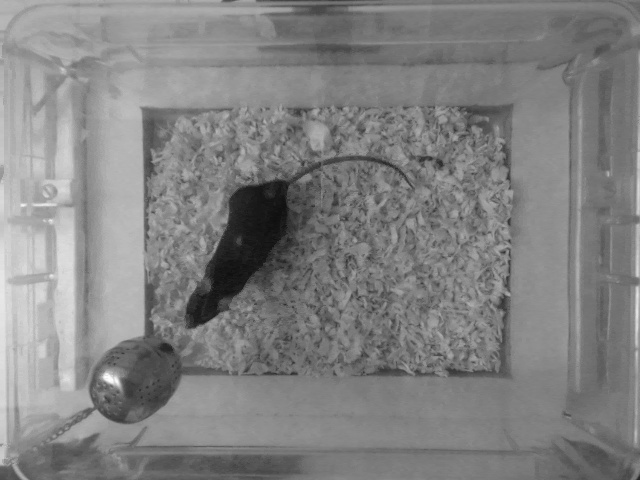mice: (183, 152, 416, 333)
